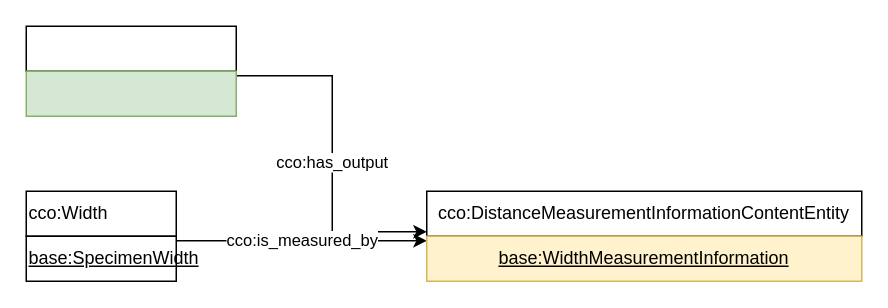
Some shapes in this 888 by 308 pixel diagram are drawn without their labels. The box of each missing label's shape, as (x1, y1, x2, y2) in pixels:
base:MeasureThickness: (25, 70, 236, 116)
cco:ActOfMeasuring: (25, 25, 236, 71)
